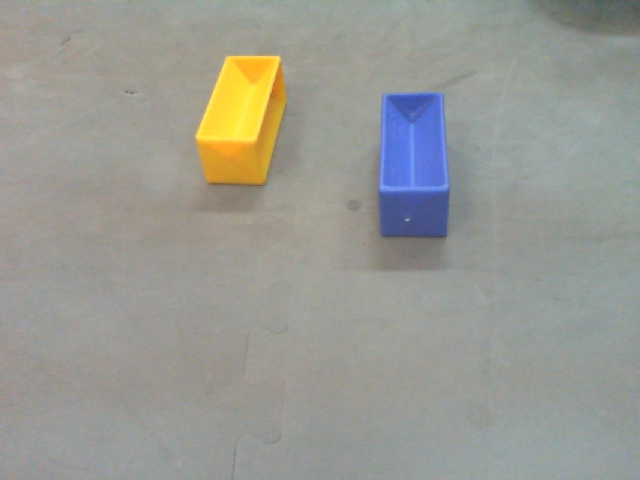BlueSample: (376, 91, 449, 239)
YellowSample: (193, 54, 286, 191)
